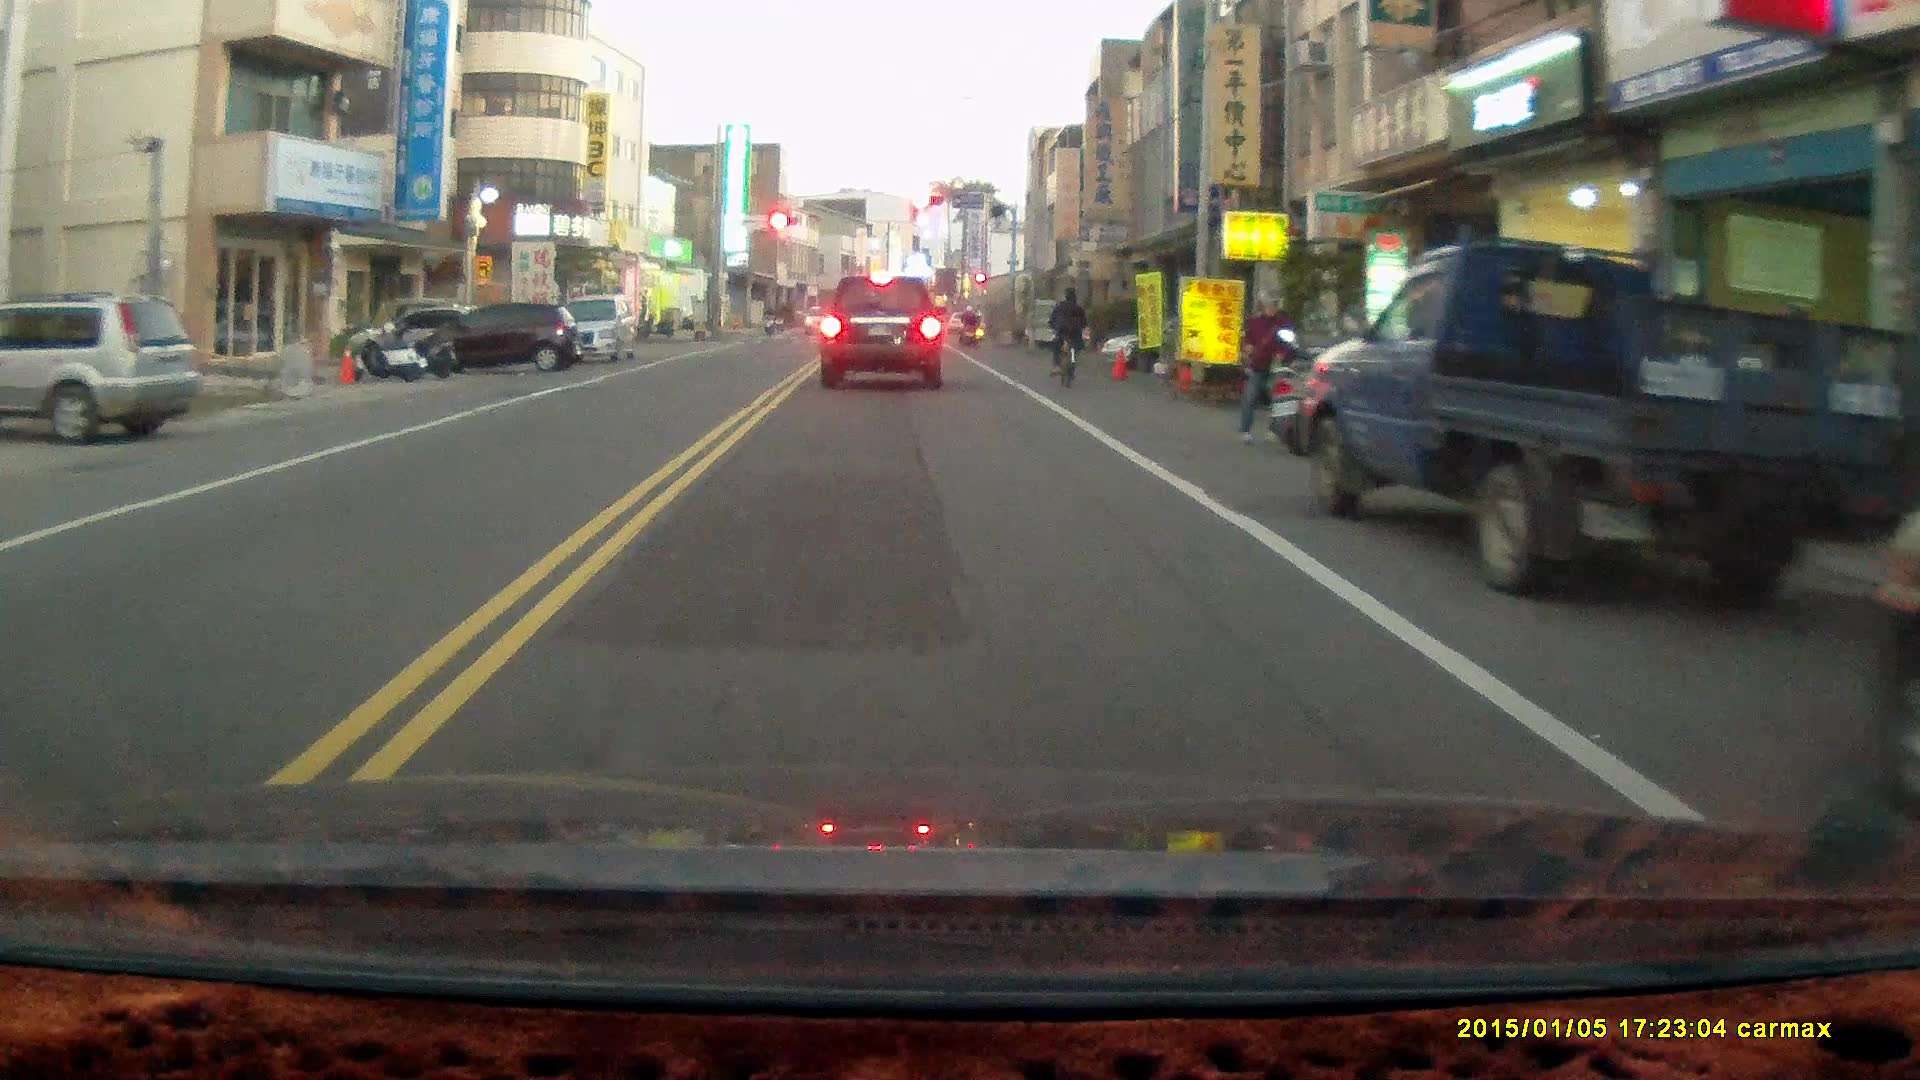pedestrian: (1234, 285, 1288, 444)
rider: (1047, 282, 1086, 391)
vehicle: (1287, 227, 1888, 597), (1, 295, 198, 444), (817, 269, 946, 392), (428, 299, 583, 371), (526, 294, 643, 366)
